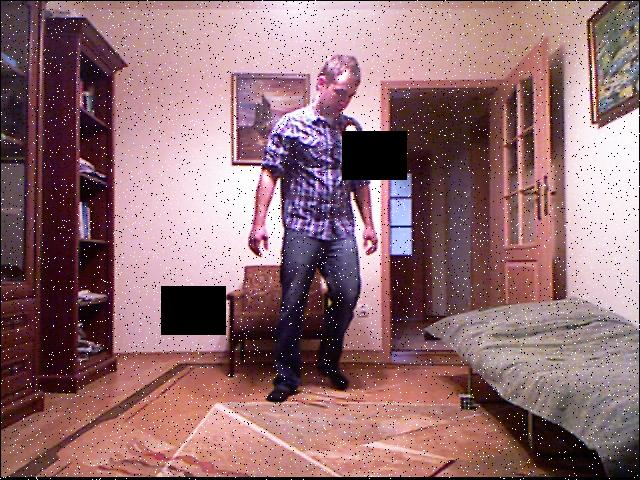walking: (249, 26, 391, 408)
